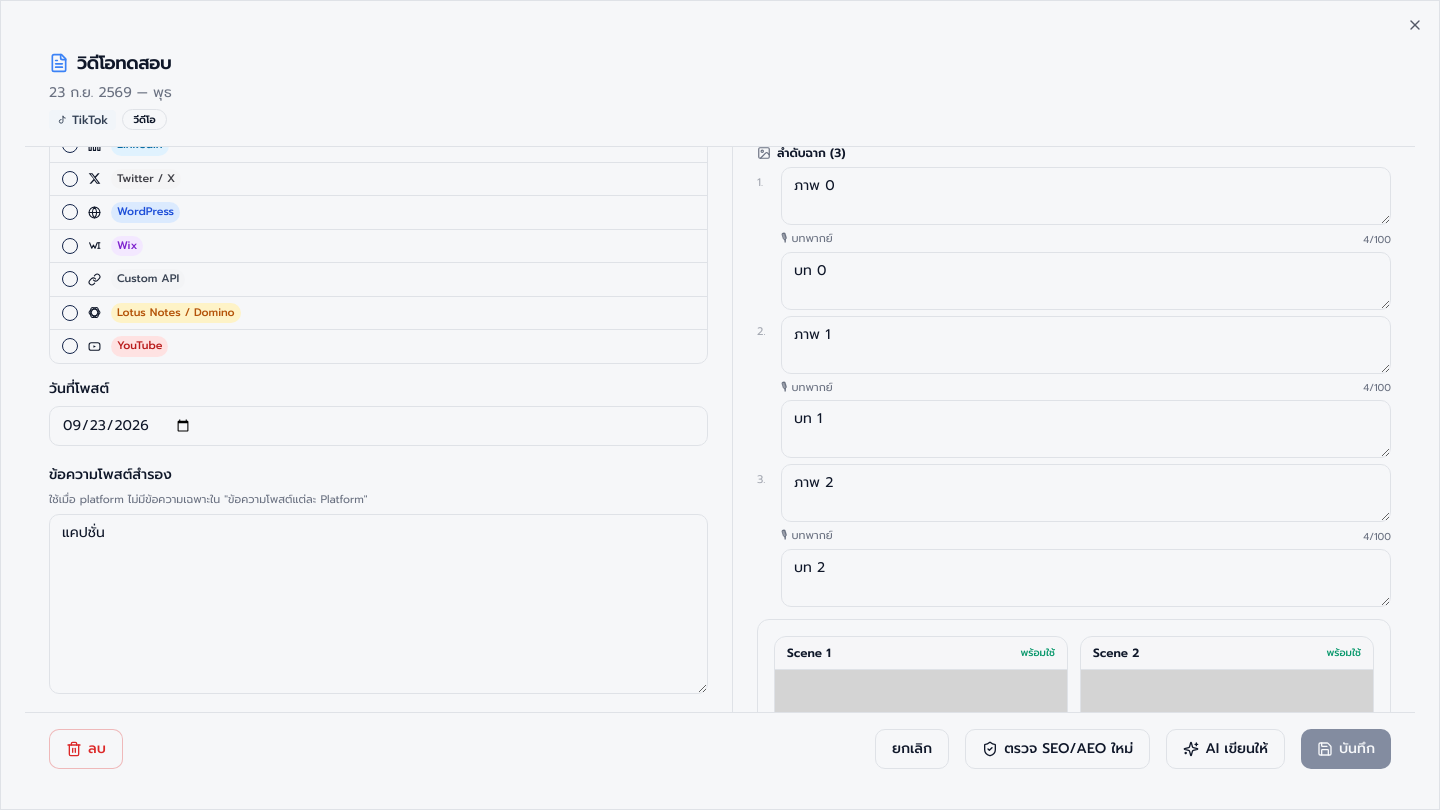
Test: ContentCardDialog — วิดีโอหลายคลิป › ไม่มีปุ่ม "สร้างวิดีโอด้วย AI" เดิม และแก้บทแล้วยังไม่บันทึก → ปุ่มสร้างคลิปกดไม่ได้
This screenshot has width=1440, height=810.
(page scrolled)
Step 1. Replace the text in the text box named "บทพากย์ฉากที่ 2" with "บทใหม่" → (1086,429), box [781,400,1391,458]
(page scrolled)
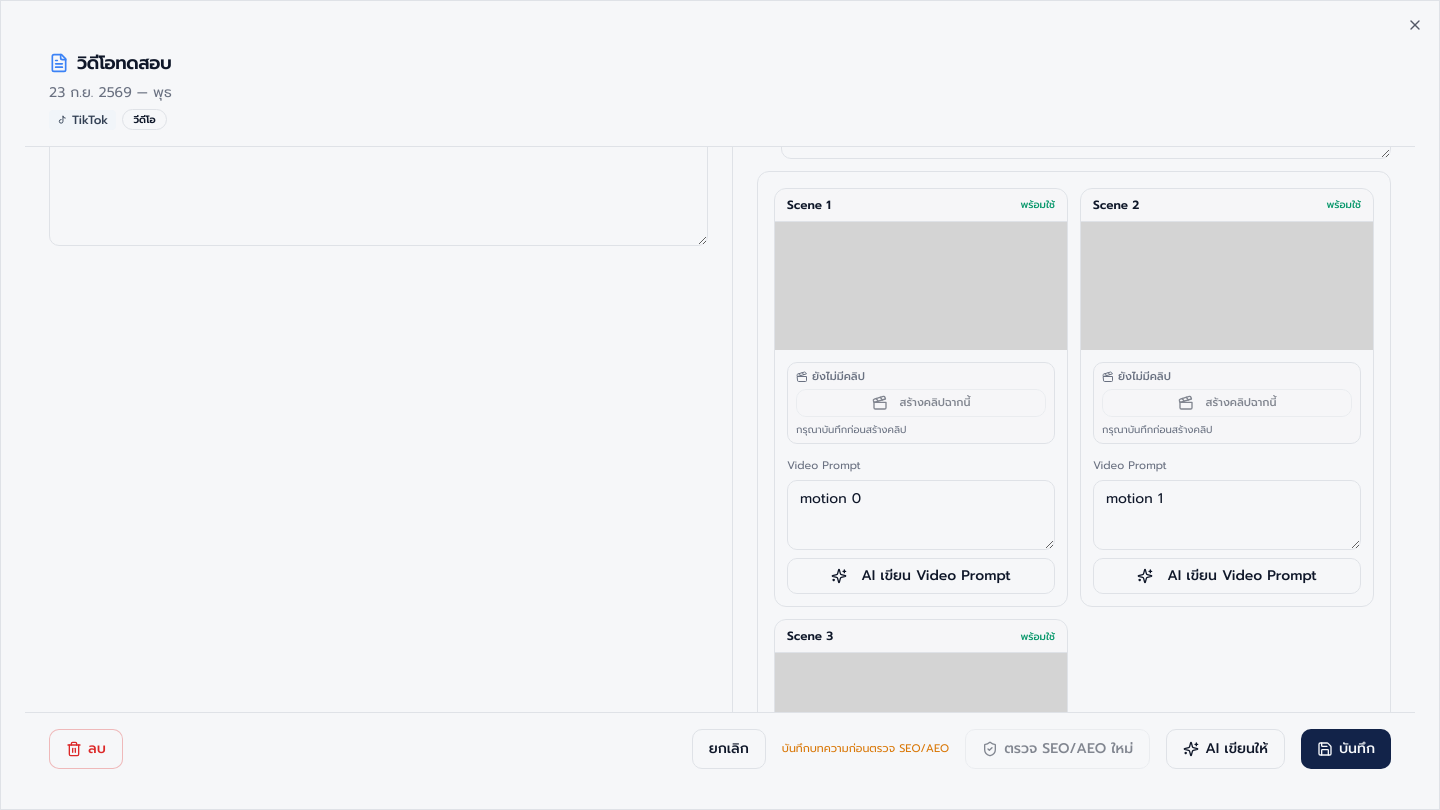
Now the 1st text "กรุณาบันทึกก่อนสร้างคลิป" is shown, box [796,422,906,437]
